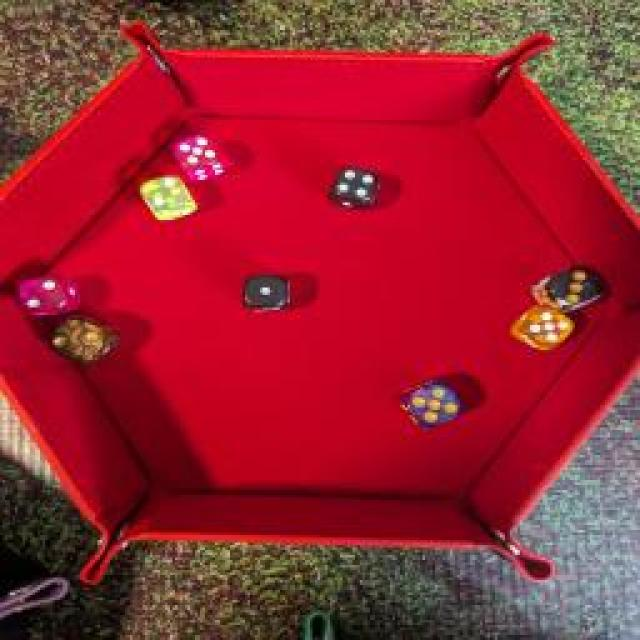dice_1: (236, 268, 296, 314)
dice_2: (48, 314, 124, 366), (127, 170, 205, 220), (14, 275, 91, 317)
dice_3: (528, 264, 604, 311)
dice_4: (323, 161, 385, 211)
dice_5: (395, 379, 470, 431), (504, 306, 578, 352), (166, 132, 234, 180)
